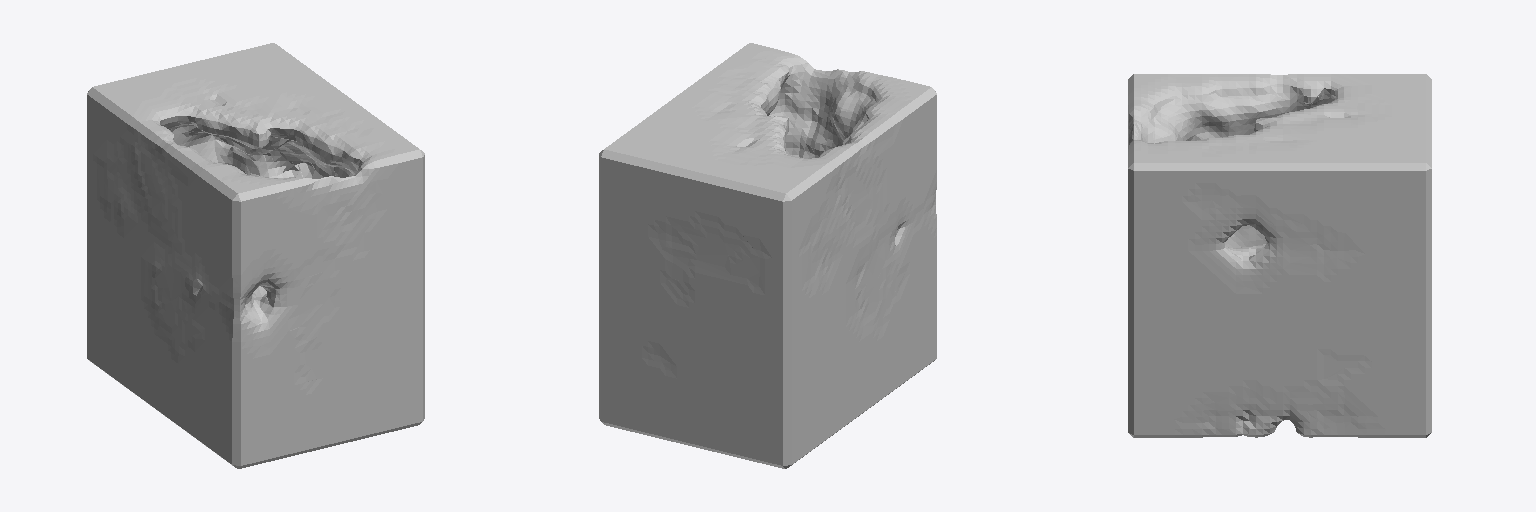
3 views of the same model, side by side, from view 1: azimuth 30°, elevation 25°; view 2: azimuth 150°, elevation 25°; view 3: azimuth 270°, elevation 25° (orthographic).
Visible parts, largest first — view 1: Liquid_Domain; view 2: Liquid_Domain; view 3: Liquid_Domain.
Part boxes in pixels (bbox=[...]): Liquid_Domain: bbox=[87, 43, 424, 468]; Liquid_Domain: bbox=[599, 43, 936, 468]; Liquid_Domain: bbox=[1128, 74, 1431, 437].
Size of the model in its own units: 79.09 by 108 by 108.